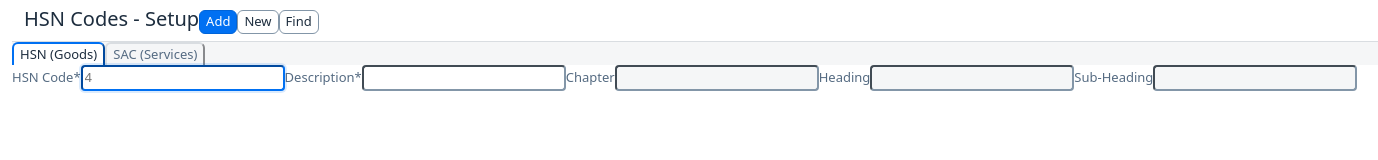
it: switching to SAC shows the SAC setup title
Click the tab "SAC (Services)" at (155, 54), box [105,42,206,65]
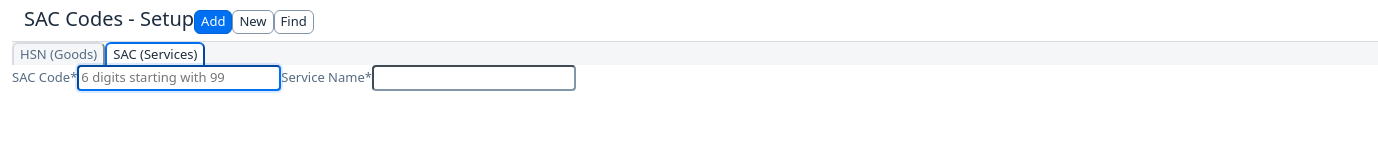
Result: the text "SAC Codes - Setup" is shown at [24,5,194,32]
